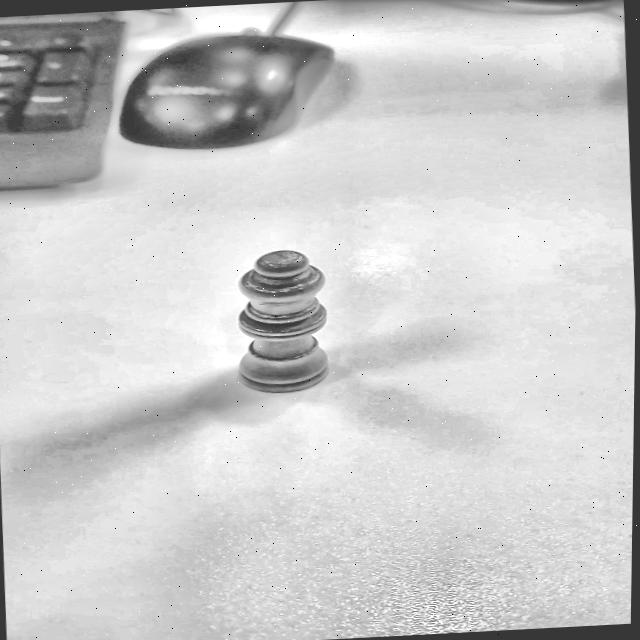black-queen: (224, 241, 350, 401)
